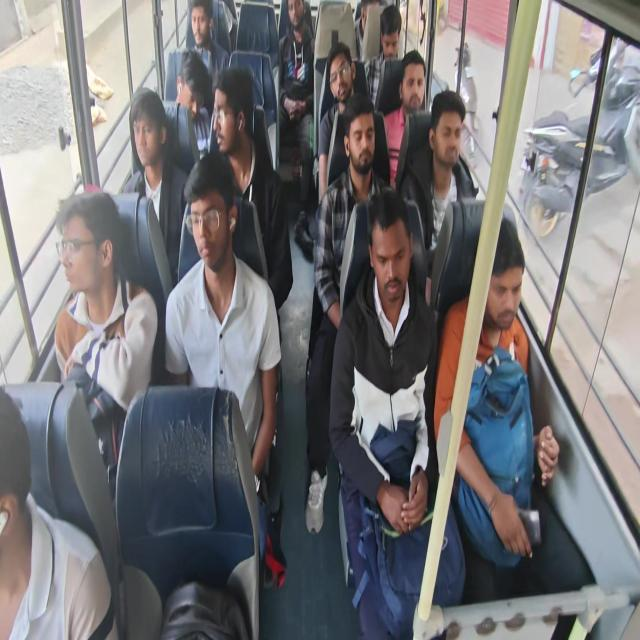person: (328, 187, 466, 638), (434, 216, 560, 580), (164, 150, 282, 480), (304, 92, 392, 534), (0, 386, 118, 638), (183, 65, 293, 316), (53, 190, 158, 412), (400, 89, 472, 304), (121, 88, 188, 282), (277, 1, 315, 253), (317, 42, 356, 203), (383, 49, 426, 189), (174, 49, 212, 156), (364, 5, 402, 110), (187, 0, 229, 88), (355, 0, 380, 60)
